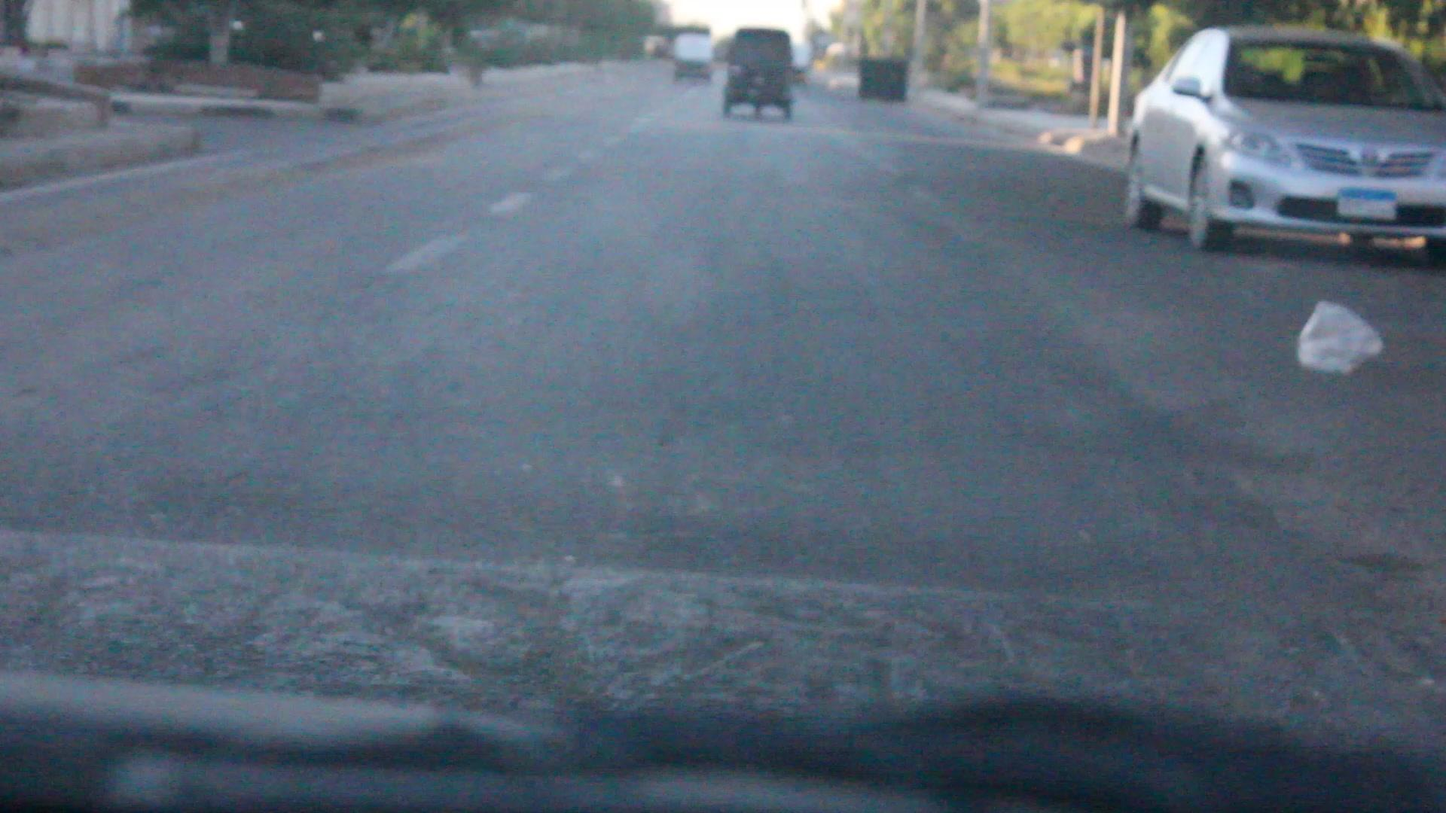Bump: (0, 518, 1414, 758)
